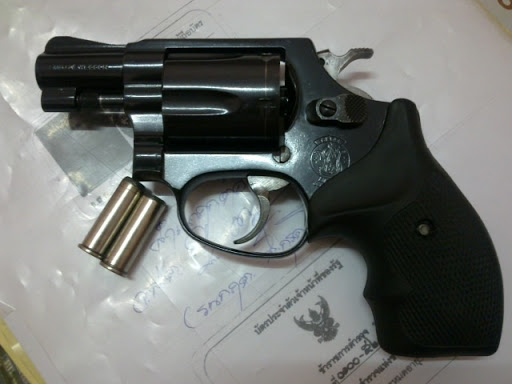gun: (28, 31, 512, 367)
